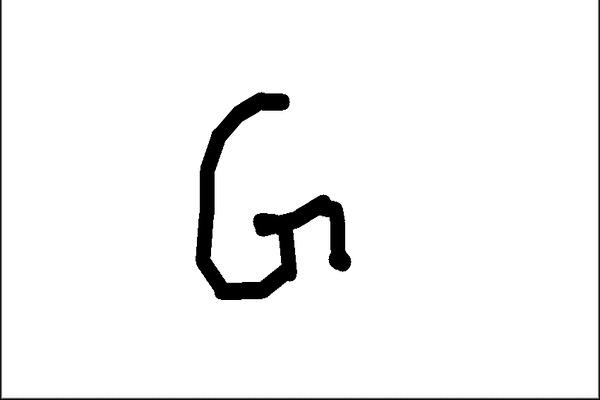G: (188, 88, 358, 305)
